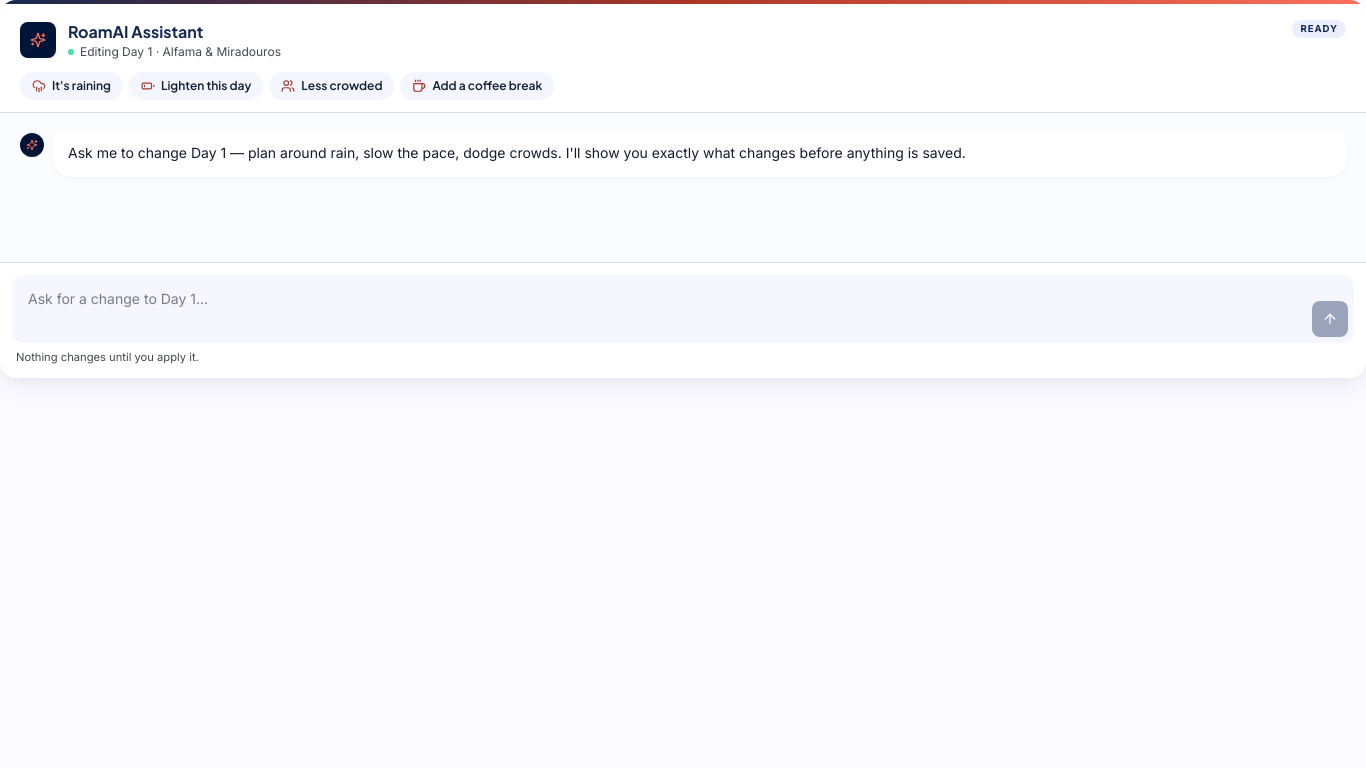
Test: TripAssistant › keeps the suggestion open and says why when saving is refused
Type "It's raining" into the text box named "Ask RoamAI to change Day 1" at (661, 309), box [18,281,1304,337]
Then press Enter
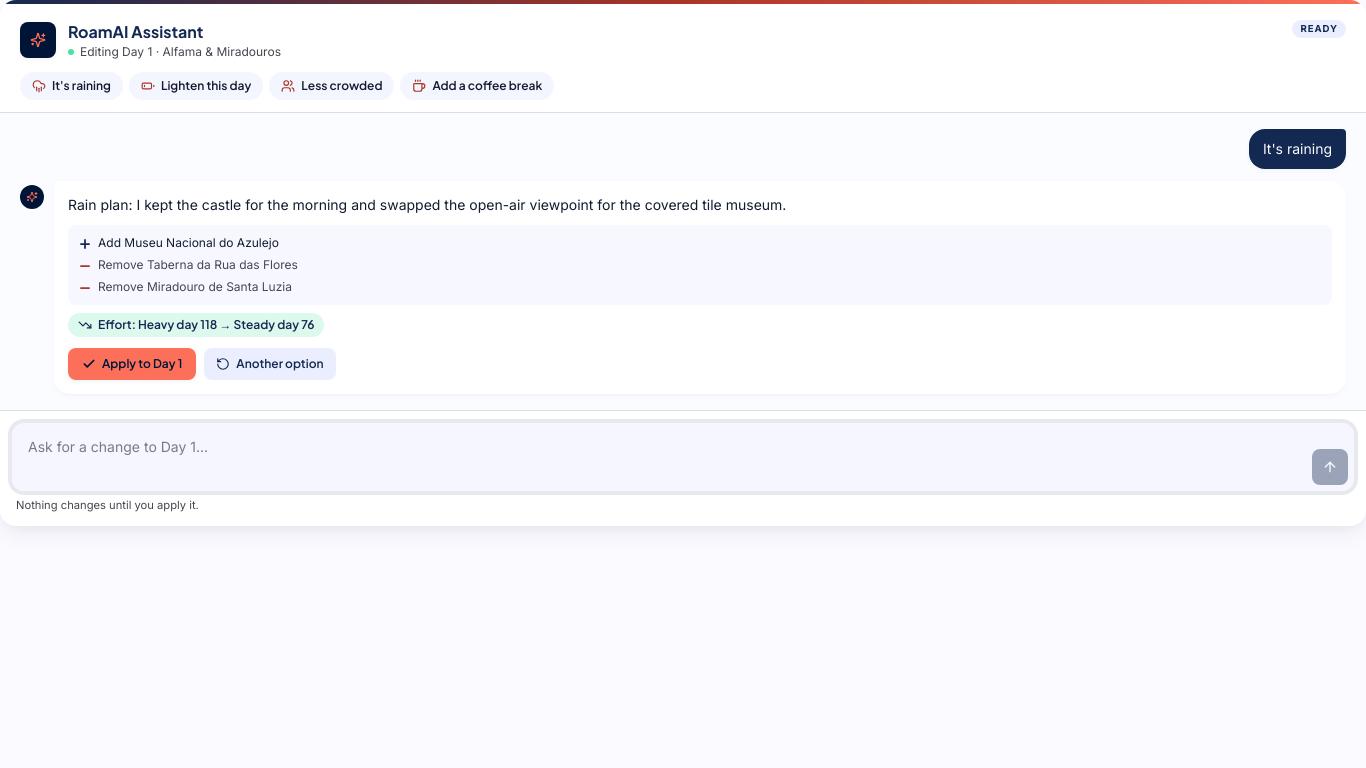
Result: the text "Rain plan: I kept the castle for the morning and swapped the open-air viewpoint for the covered tile museum." is shown at [68,196,786,213]
Click the button "Apply to Day 1" at (132, 364), box [68,348,196,380]
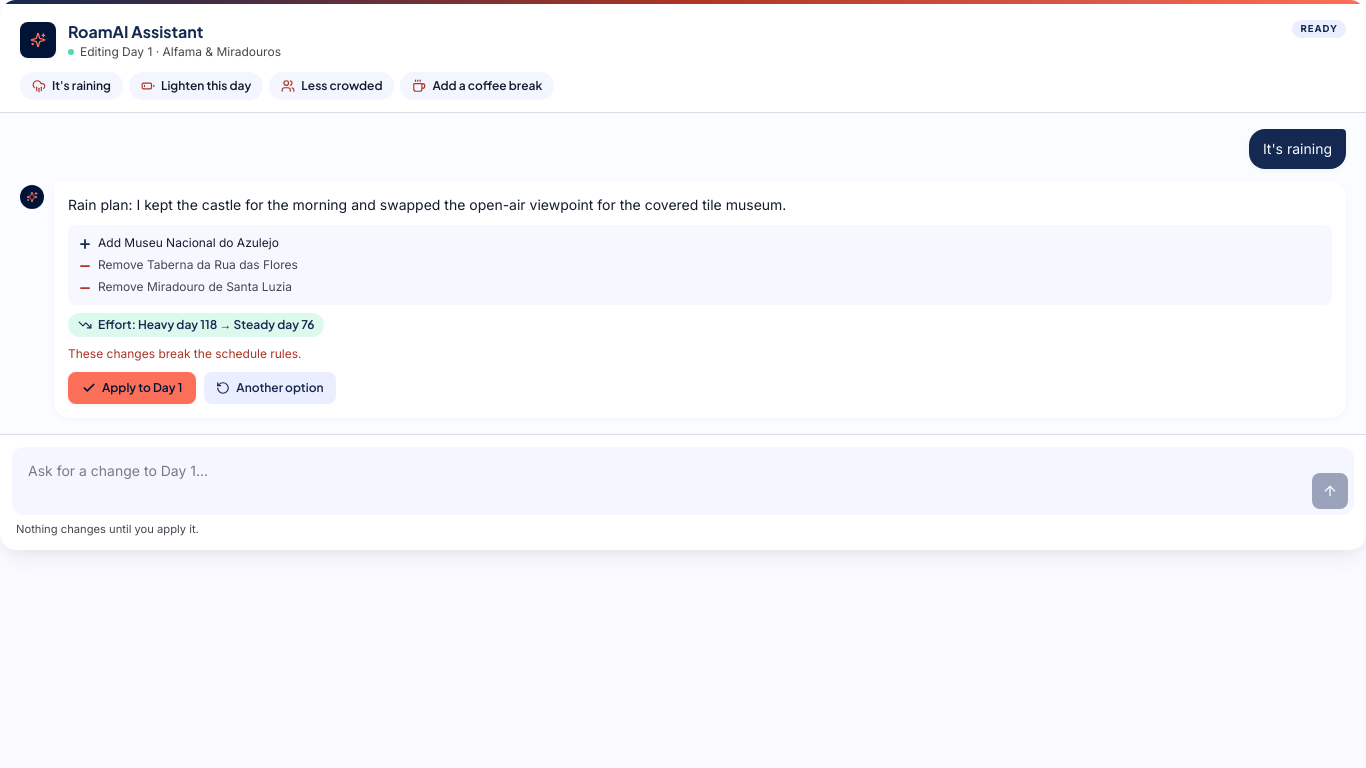
Result: the button "Apply to Day 1" is enabled at [68,372,196,404]
Result: the message shows "break the schedule rules" at [68,346,302,361]
